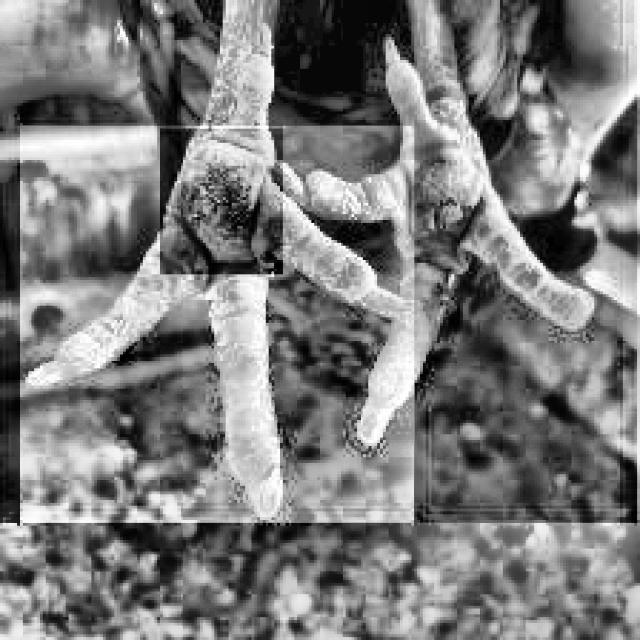Bumble foot: (397, 140, 516, 288), (165, 132, 287, 270)
